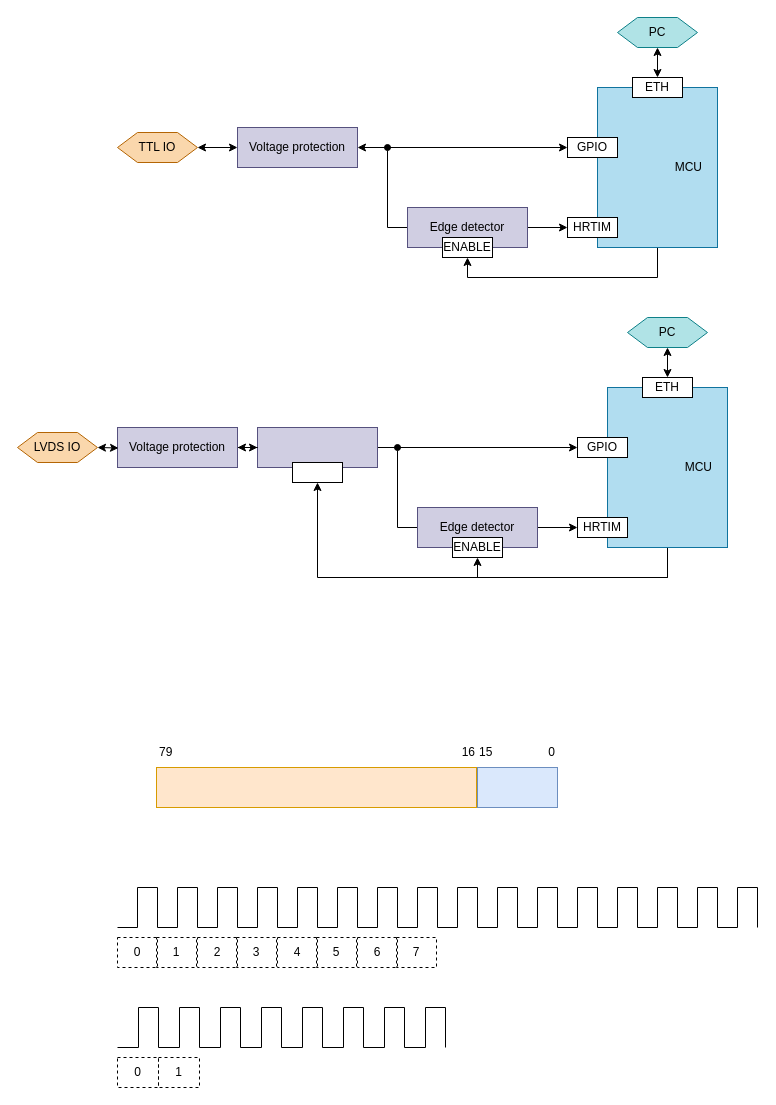
Image size: 776x1105. Some labels were removed from this diagram. Each missing label, with the box of its shape:
Coarse Counter: (156, 766, 476, 808)
Differential to TTL: (256, 426, 378, 468)
DIR: (292, 462, 342, 482)
Fine Counter: (476, 766, 558, 808)
